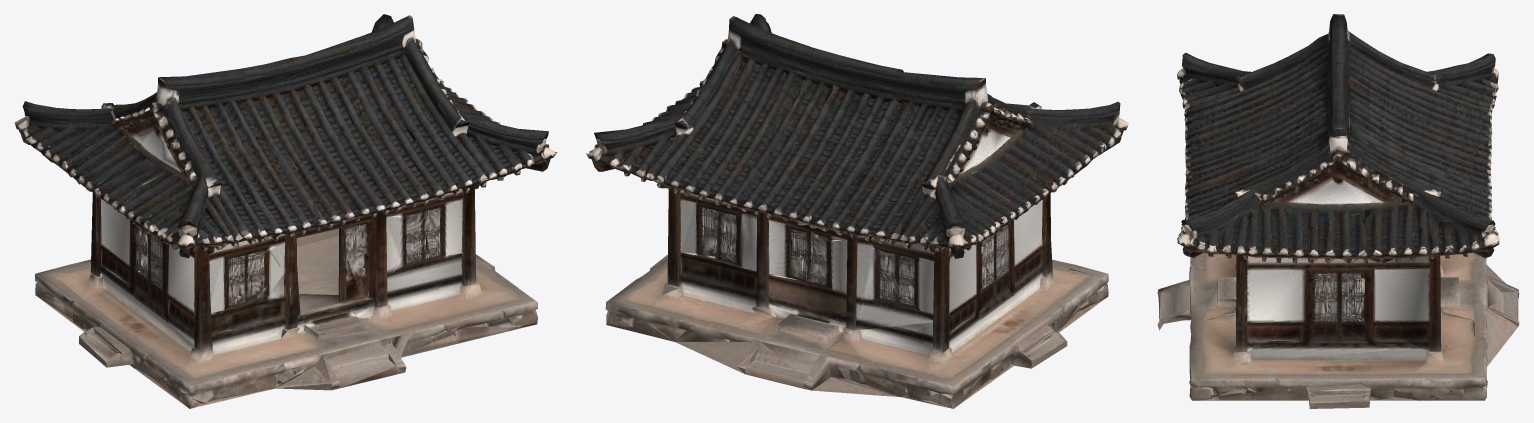
File: giwa.glb
3 renders of one model, left to right at view 1: azimuth 30°, elevation 25°; view 2: azimuth 150°, elevation 25°; view 3: azimuth 270°, elevation 25°, orthographic. The views are drawn at different scales.
Visible parts, largest first — view 1: Mesh_0.001; view 2: Mesh_0.001; view 3: Mesh_0.001.
Boxes of the visible parts, <box> form: Mesh_0.001: <box>14,14,557,408</box>; Mesh_0.001: <box>586,14,1128,408</box>; Mesh_0.001: <box>1157,14,1519,408</box>.
Bounding box in the file's own units: 6.17 × 4 × 5.25.
1 material, 1 textured.
